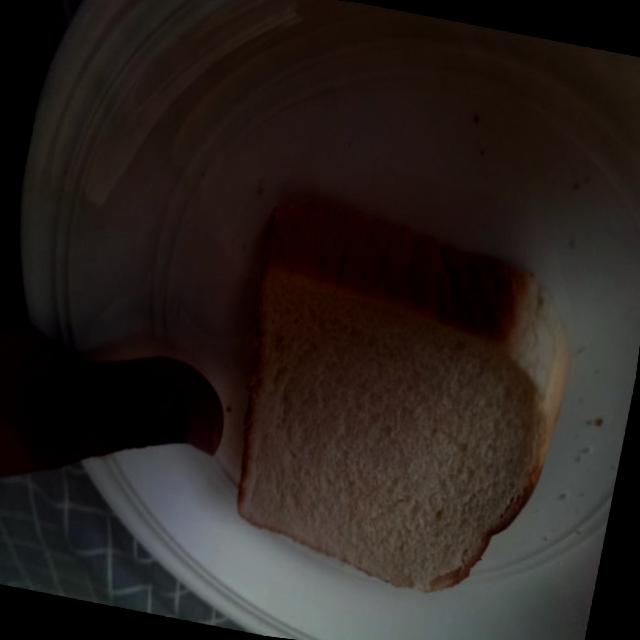Bread: (202, 174, 606, 626)
Finger: (100, 339, 243, 490)
